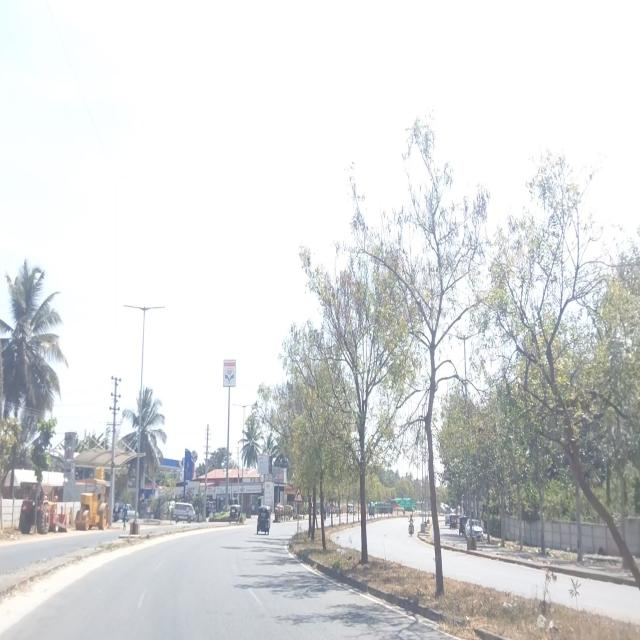bien_cam: (294, 485, 304, 504)
